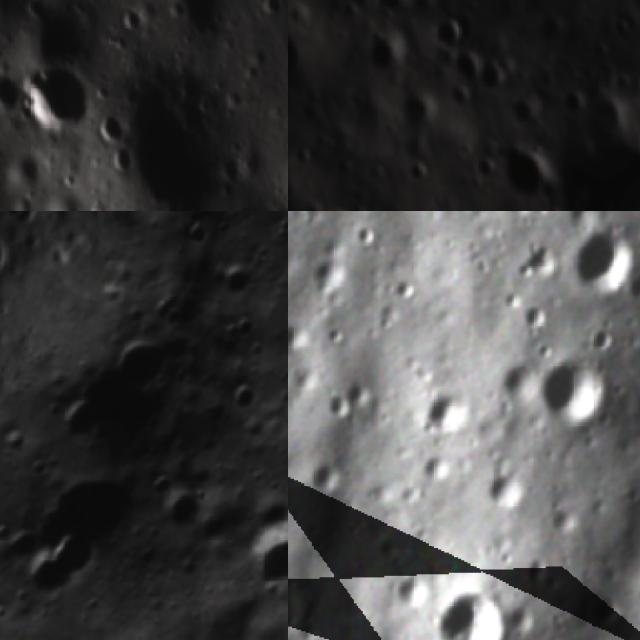crater: (10, 444, 160, 590), (118, 68, 225, 211), (543, 90, 640, 211), (100, 321, 184, 403), (6, 531, 89, 613), (231, 502, 288, 611), (533, 349, 600, 426), (27, 58, 95, 131), (437, 581, 510, 640), (579, 225, 639, 293), (51, 389, 113, 451), (206, 251, 269, 312), (496, 142, 553, 200), (159, 0, 235, 36), (426, 389, 472, 441), (288, 14, 315, 93), (519, 237, 563, 282), (175, 211, 219, 253), (222, 378, 265, 420), (365, 35, 410, 75), (310, 260, 357, 293), (398, 90, 436, 129), (489, 471, 527, 510), (430, 13, 468, 48), (549, 504, 592, 534), (474, 55, 508, 90), (308, 460, 344, 493), (320, 386, 352, 422), (0, 70, 22, 121), (400, 154, 434, 187), (554, 84, 588, 115), (504, 90, 534, 125), (538, 10, 567, 44), (469, 150, 496, 180), (520, 307, 552, 331), (596, 403, 620, 435), (351, 222, 382, 246), (390, 276, 420, 300), (586, 331, 616, 354), (453, 50, 478, 77), (445, 80, 472, 105), (288, 321, 313, 348), (369, 0, 420, 12), (352, 379, 370, 408), (562, 211, 599, 225), (376, 313, 399, 334), (610, 379, 632, 399), (329, 323, 349, 344), (505, 288, 523, 311), (536, 342, 556, 362), (336, 0, 373, 10), (504, 211, 536, 221), (634, 271, 640, 303), (463, 205, 487, 211)
